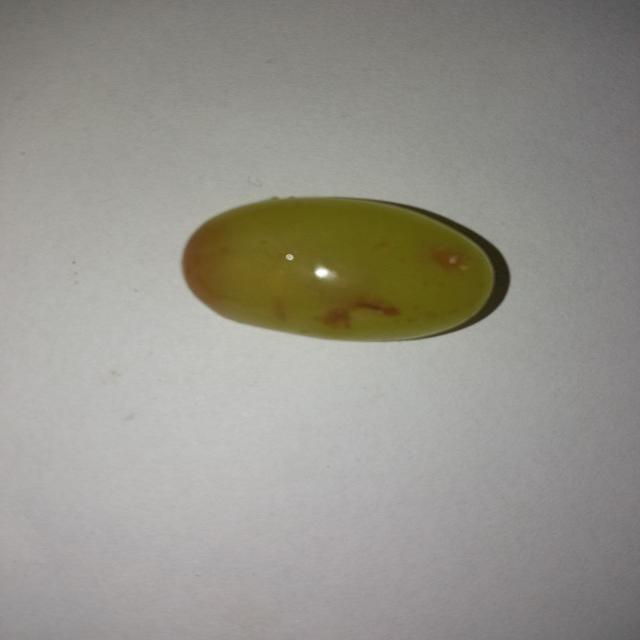fresh_grape: (180, 194, 501, 341)
